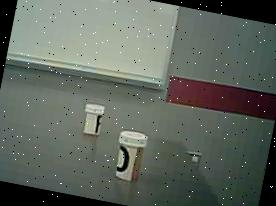Bottle D: (108, 126, 152, 187)
Bottle F: (75, 96, 113, 140)
